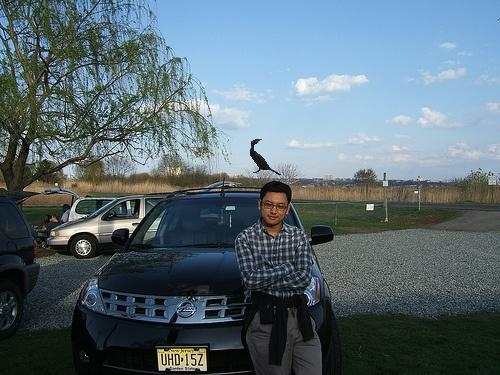tampered: (251, 140, 281, 175)
